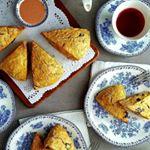cups: (111, 1, 149, 45), (13, 1, 52, 29)
